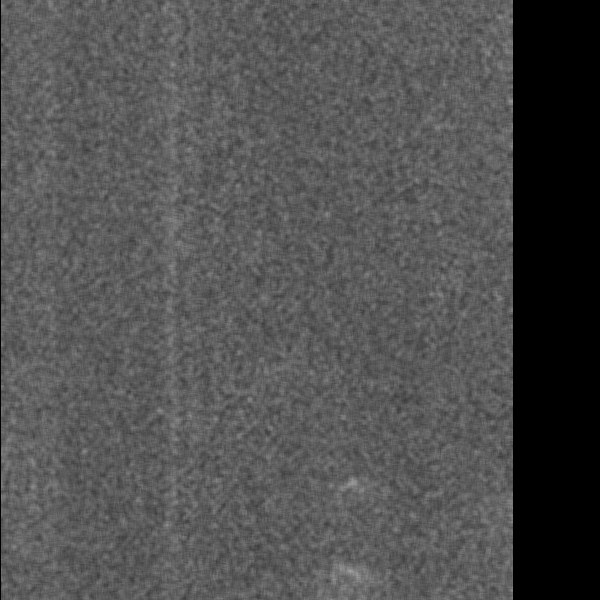spark: (347, 425, 398, 462)
